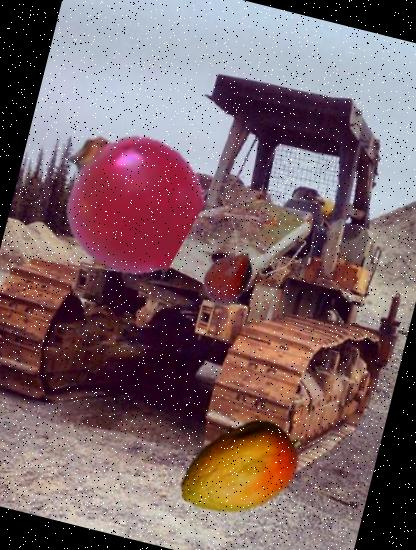Papaya: (164, 392, 318, 547)
Redcurrant: (40, 113, 212, 285)
Salak: (192, 239, 266, 314)
